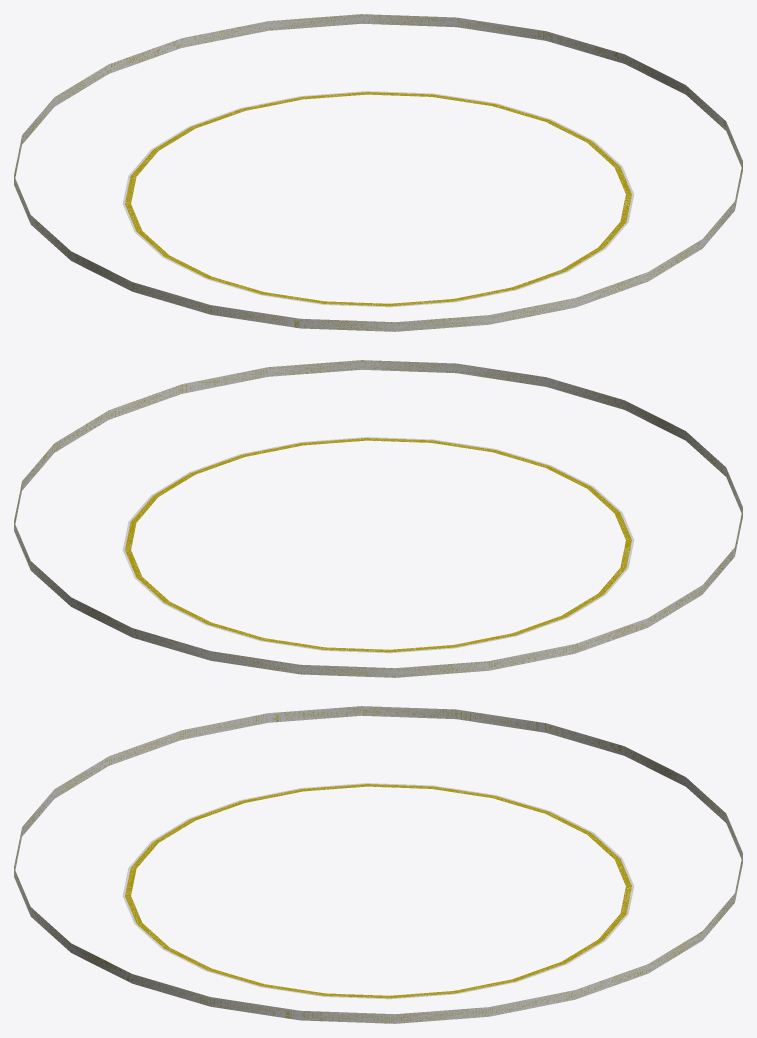
The model's file is plate_1_line.dae.
The picture shows the model from 3 angles, top to bottom: view 1: azimuth 30°, elevation 25°; view 2: azimuth 150°, elevation 25°; view 3: azimuth 270°, elevation 25°; orthographic projection.
Visible parts, largest first — view 1: instance_0_002, instance_0_003, instance_0_004; view 2: instance_0_002, instance_0_003, instance_0_004; view 3: instance_0_002, instance_0_003, instance_0_004.
Part boxes in pixels (x1,y1,x2,y2): instance_0_002: [14, 14, 742, 331]; instance_0_003: [125, 92, 631, 306]; instance_0_004: [122, 91, 634, 307]; instance_0_002: [14, 360, 742, 677]; instance_0_003: [125, 438, 631, 652]; instance_0_004: [122, 437, 634, 653]; instance_0_002: [14, 706, 742, 1023]; instance_0_003: [125, 784, 631, 998]; instance_0_004: [122, 783, 634, 999].
Bounding box in the file's own units: 0.3224 × 0.3224 × 0.0151.
